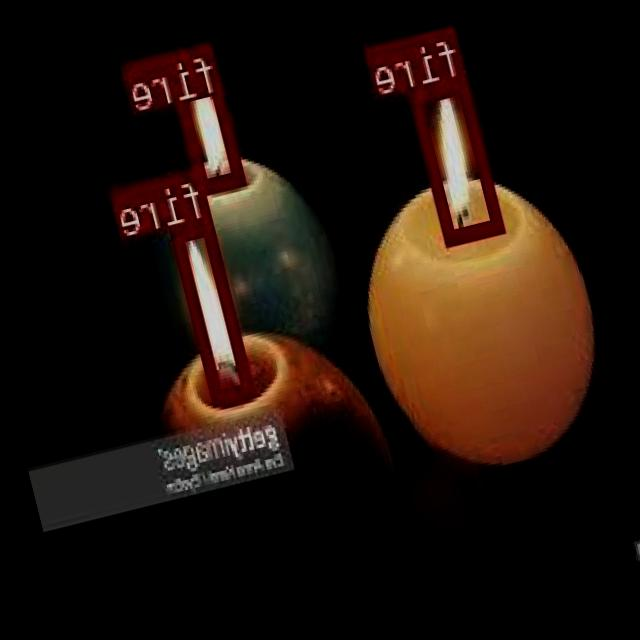fire: (409, 72, 506, 244), (172, 214, 258, 402), (166, 38, 248, 192)
